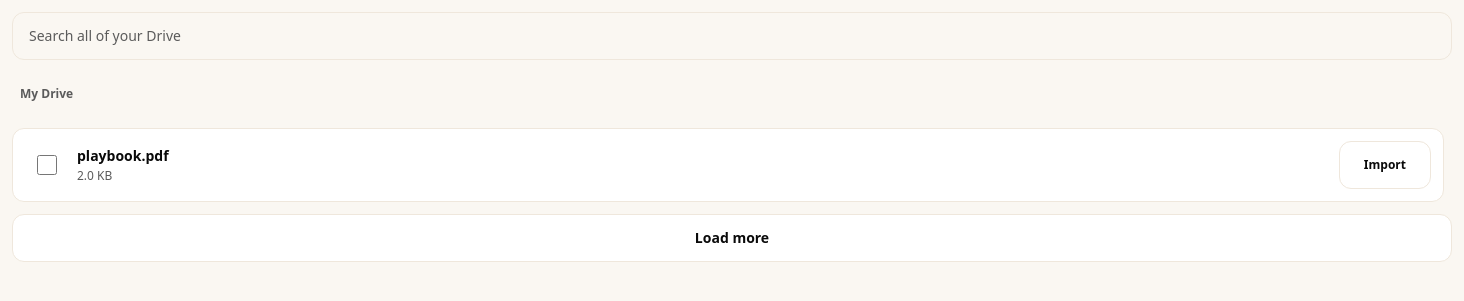
Test case: GoogleDrivePicker › loads the next page when a cursor is present
Click the button "Load more" at (732, 238), box [12,214,1452,262]
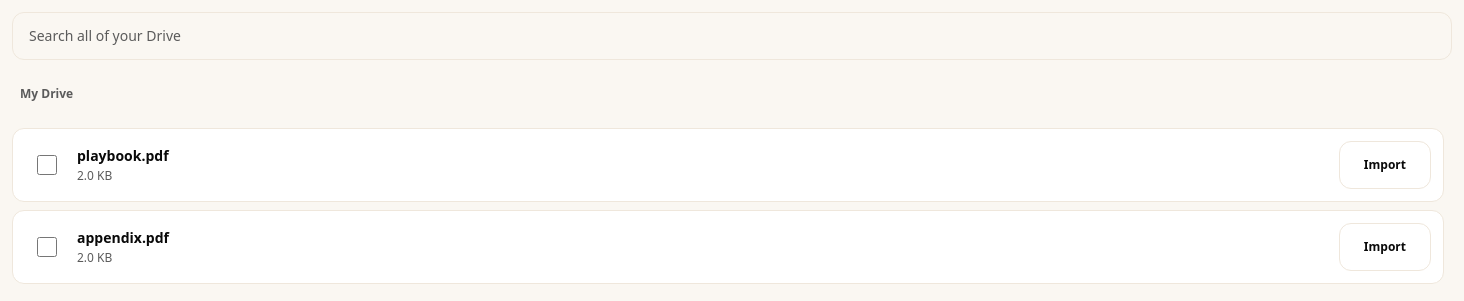
Expected: the text "playbook.pdf" is shown, [77,146,169,165]
Result: the text "appendix.pdf" is shown at [77,228,169,247]
